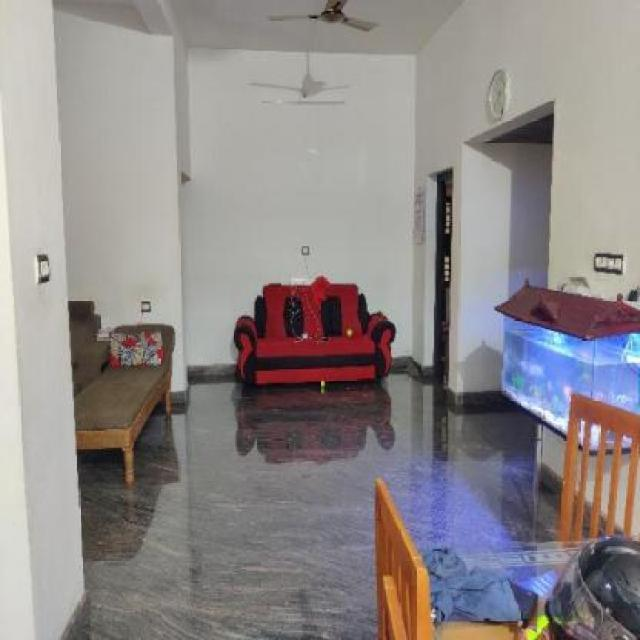-: (334, 319, 365, 353), (310, 362, 335, 403)
